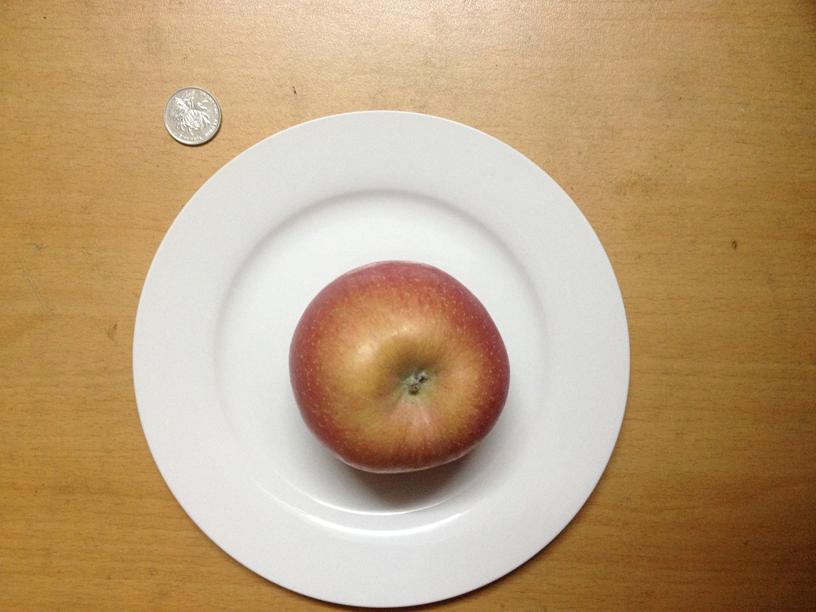apple: (286, 257, 510, 474)
coin: (162, 87, 220, 147)
